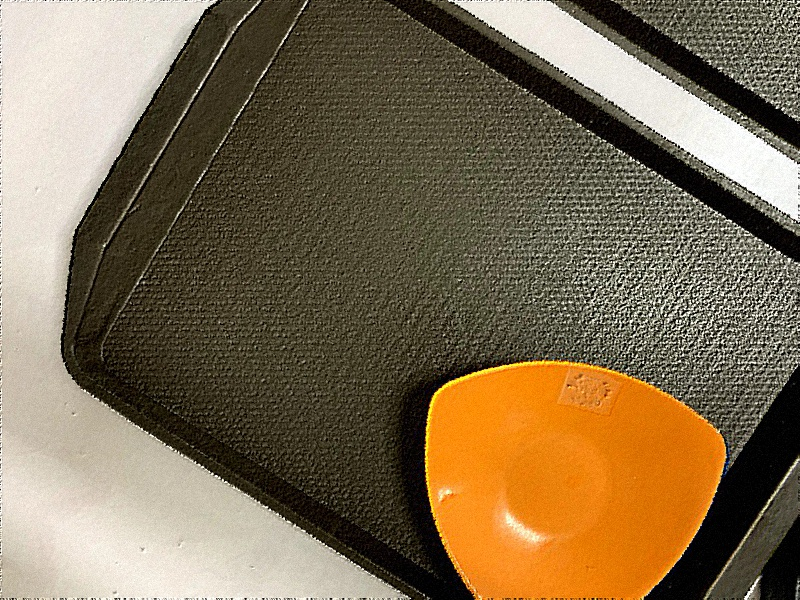dish11: (332, 277, 758, 599)
